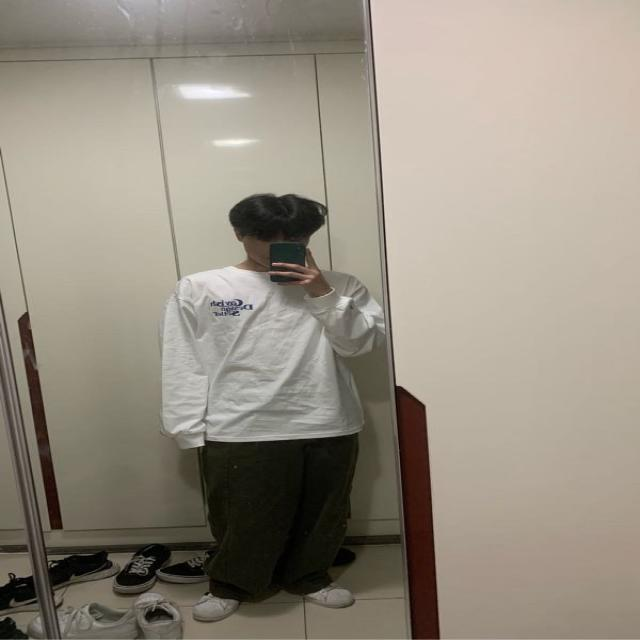cottonpants: (202, 435, 364, 606)
longsleeve: (162, 268, 387, 454)
